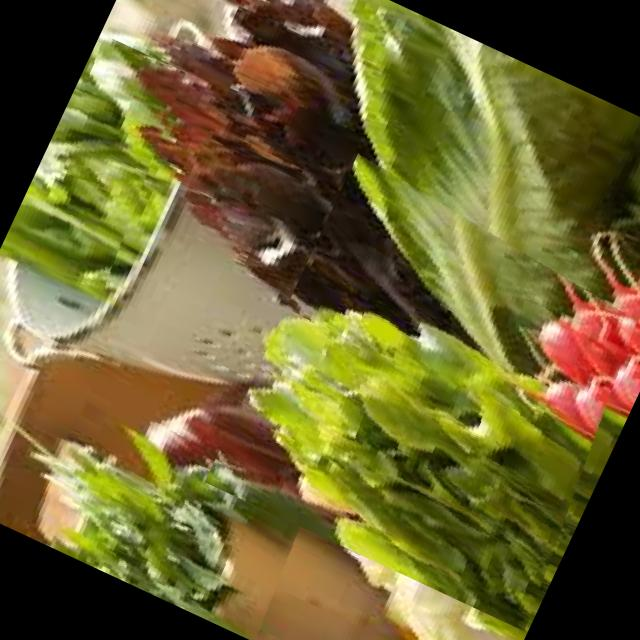Organic: (205, 150, 640, 632), (24, 385, 325, 640), (0, 32, 202, 296)
